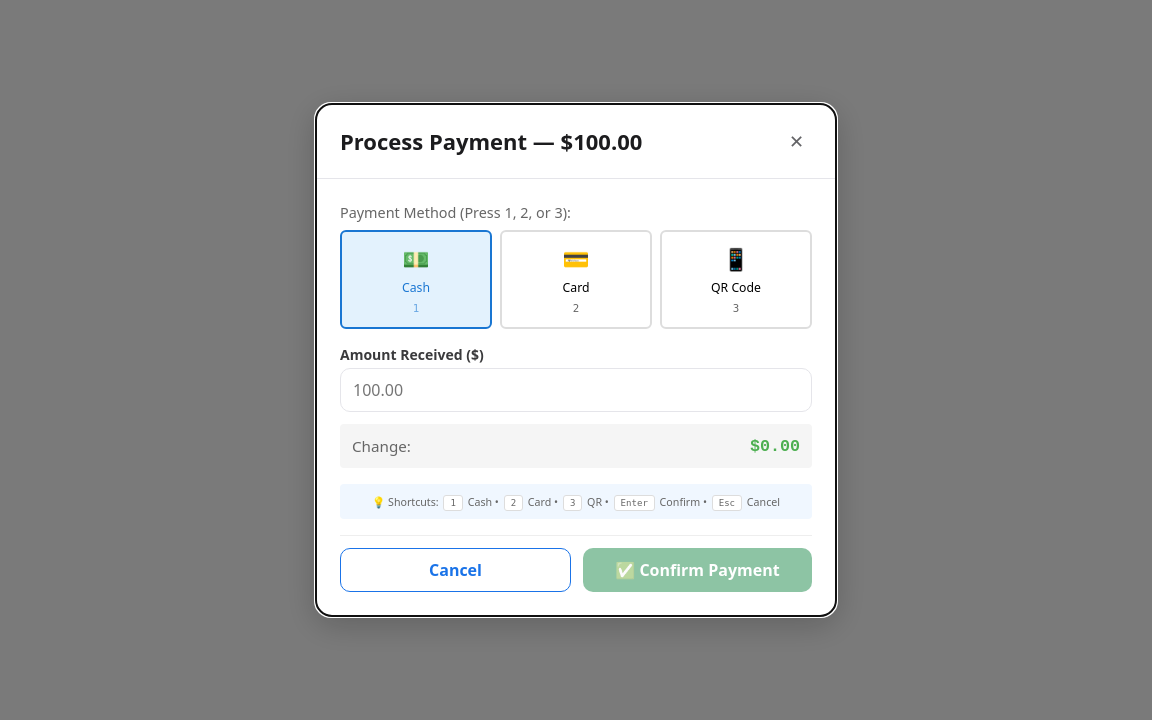
PaymentModalEnhanced › Cash Payment › should show insufficient warning when cash is less than total
Type "50" into the number field with test id "cash-amount-input" at [576, 390], box left=340, top=368, right=812, bottom=412
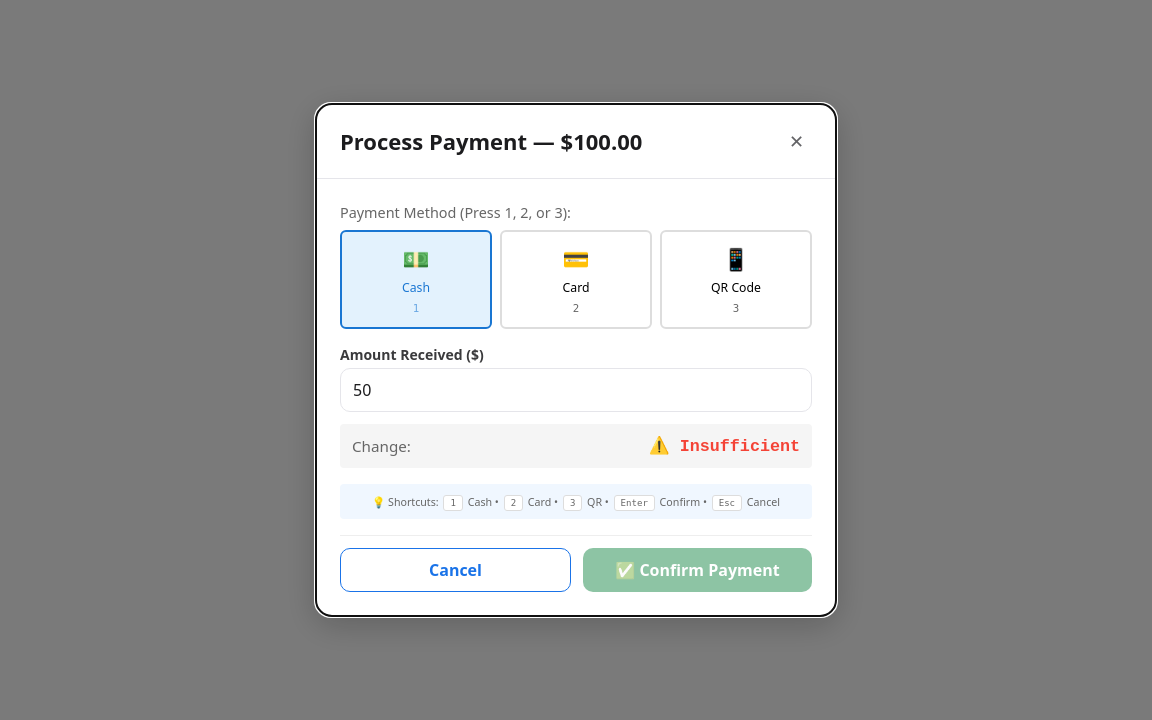
Expected: the text with test id "change-amount" reads "⚠️ Insufficient", left=649, top=437, right=800, bottom=456
